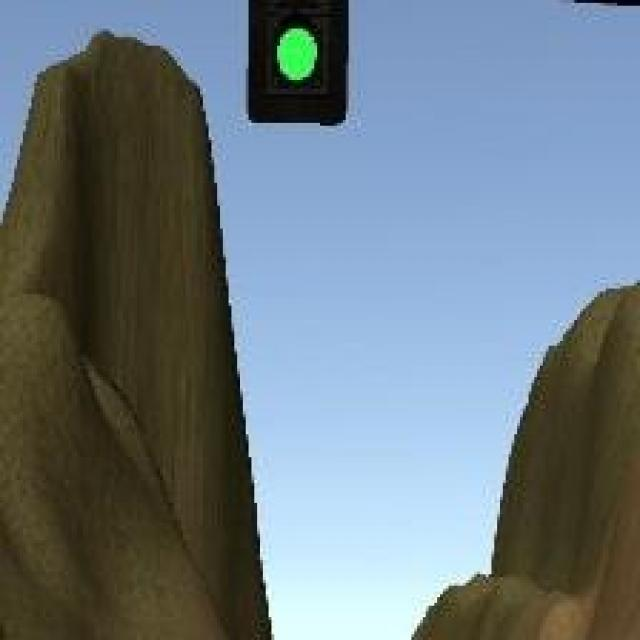green_light: (249, 3, 346, 123)
